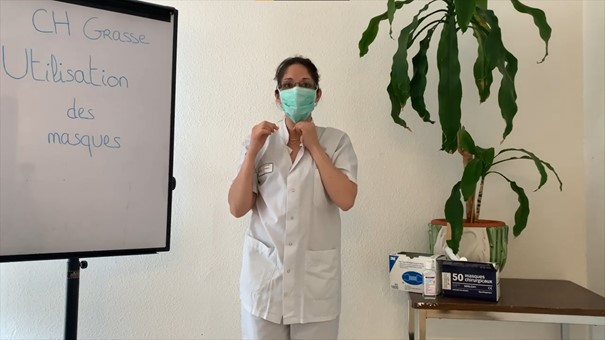with_mask: (272, 75, 324, 121)
